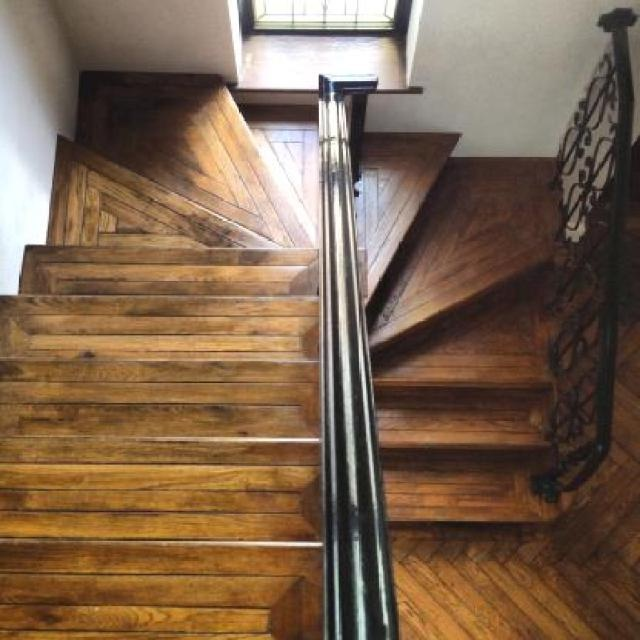stair: (0, 12, 639, 638)
